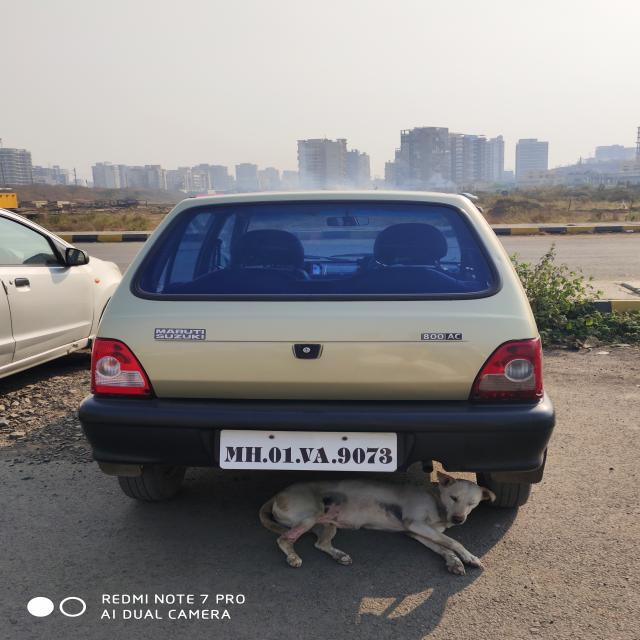Number-Plate: (224, 432, 397, 470)
